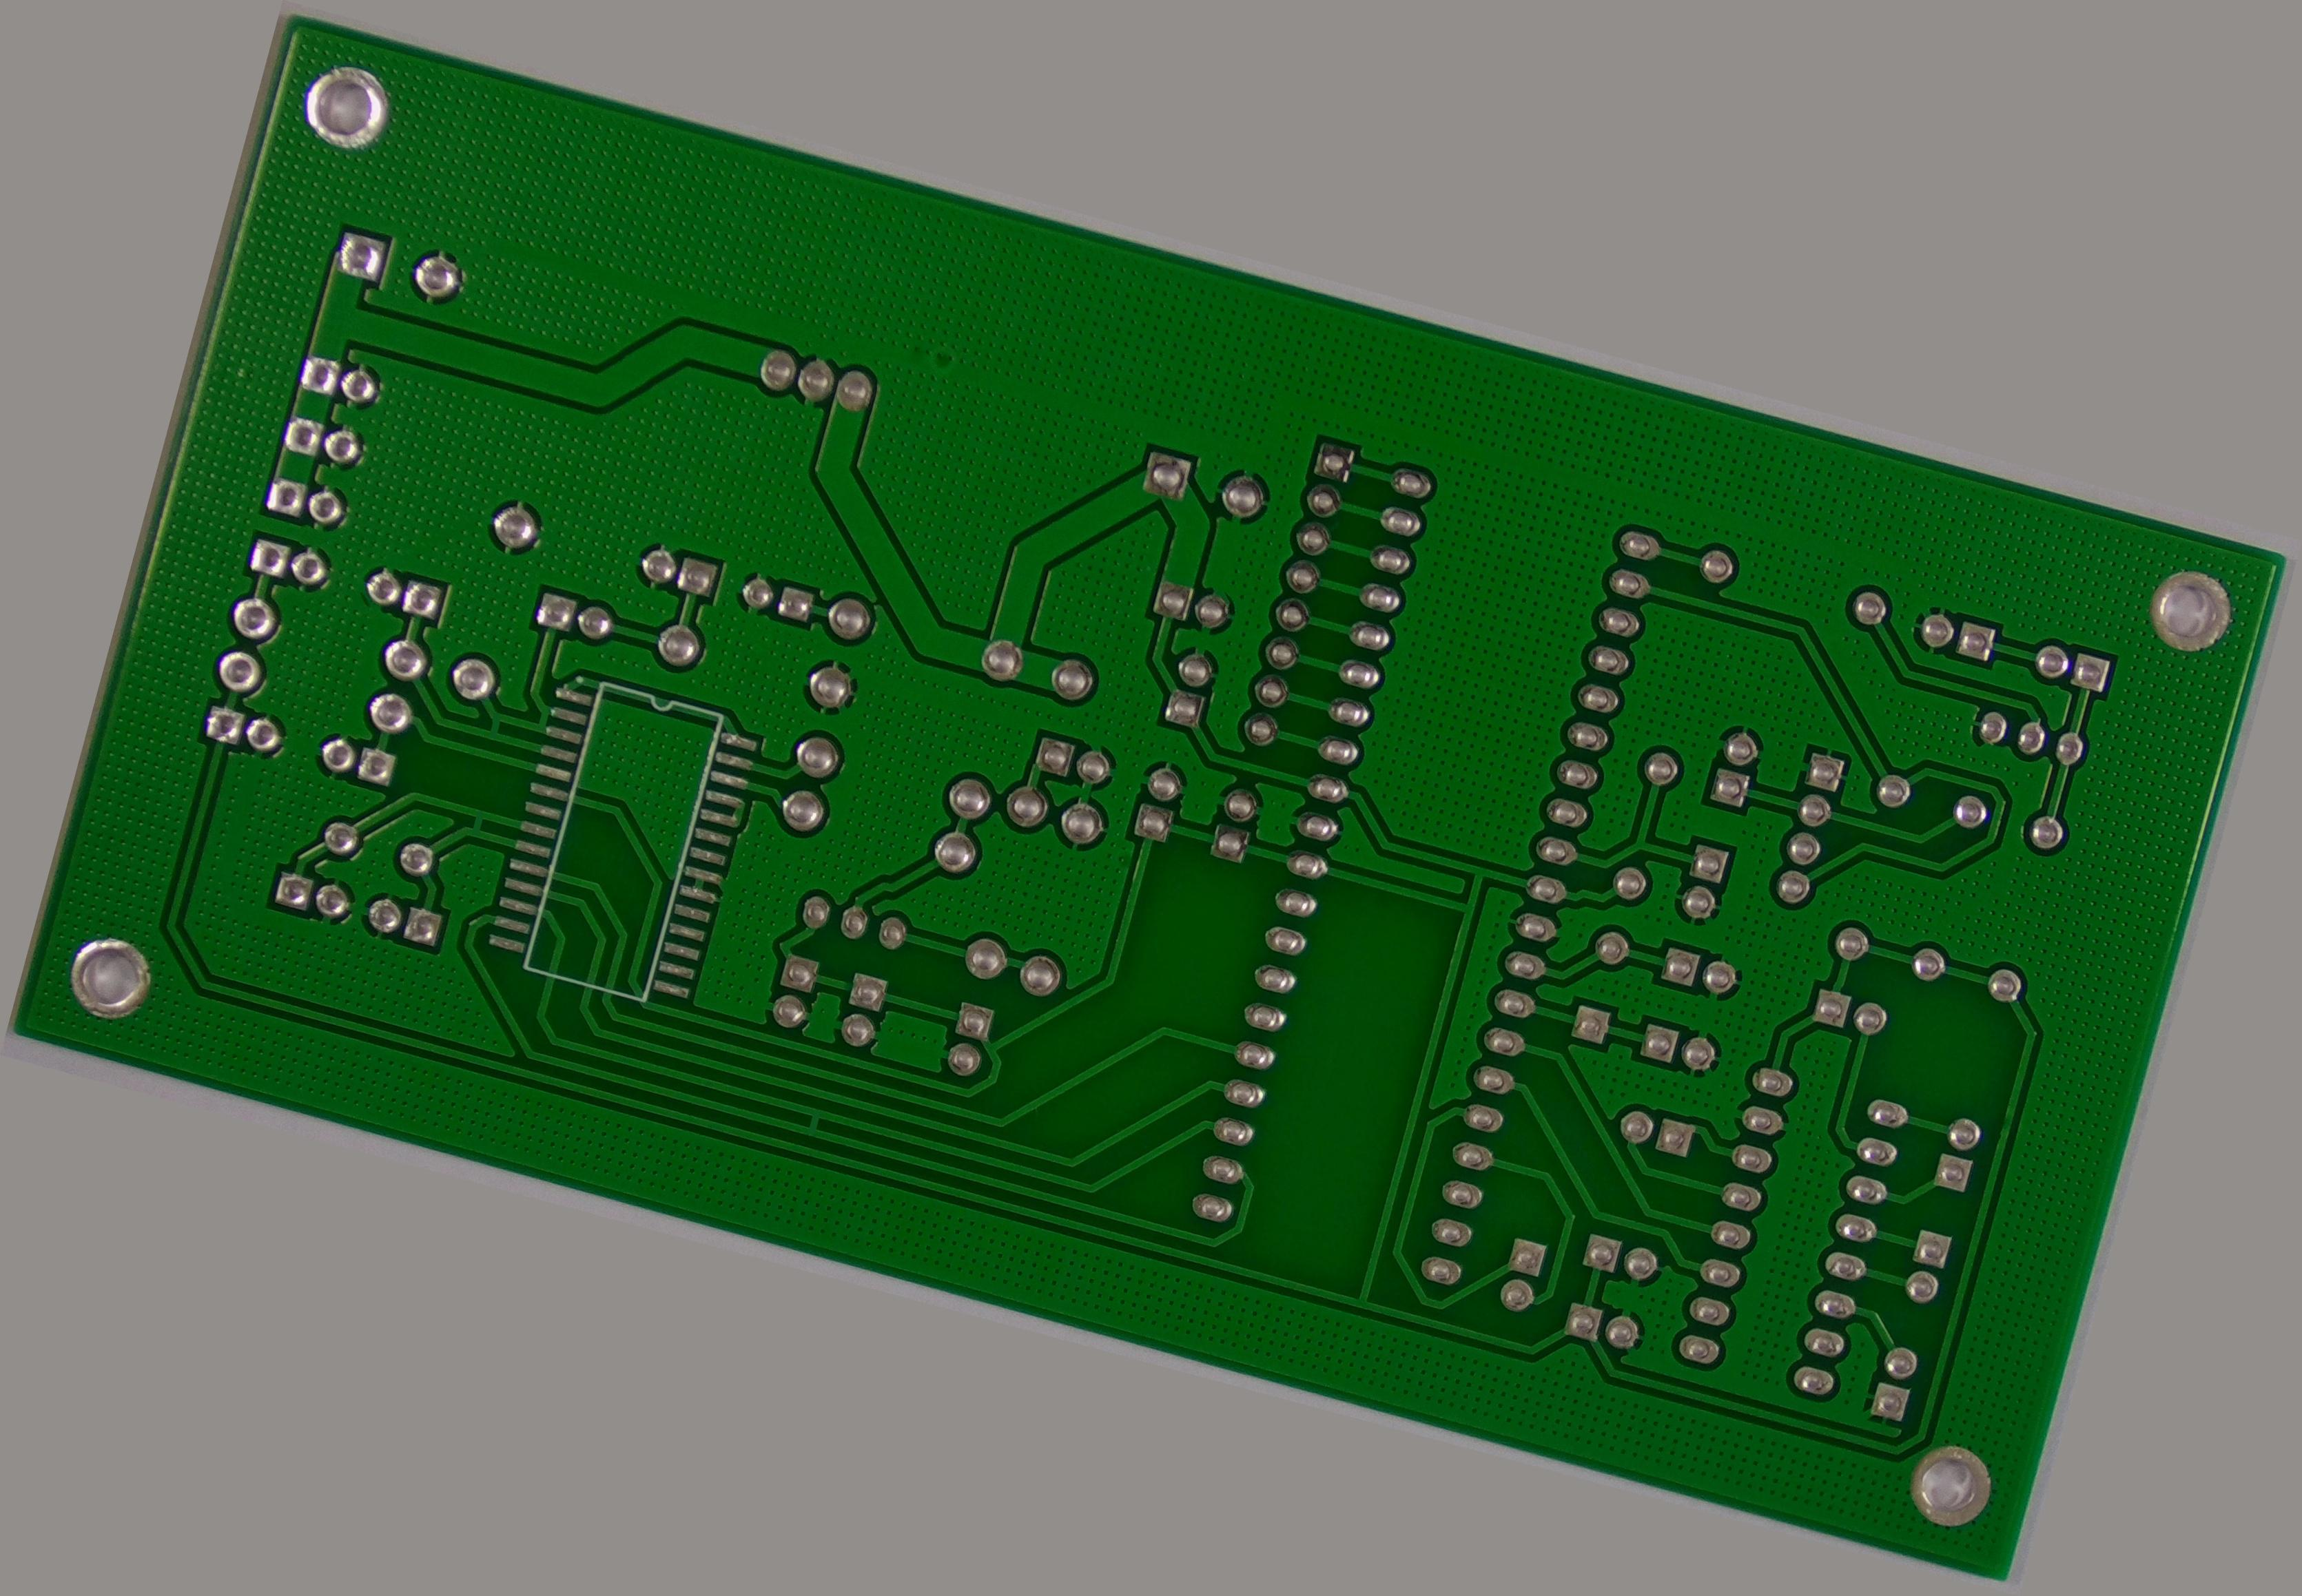short: (471, 696, 518, 748), (789, 1100, 834, 1148), (457, 799, 495, 844), (527, 699, 562, 734)
